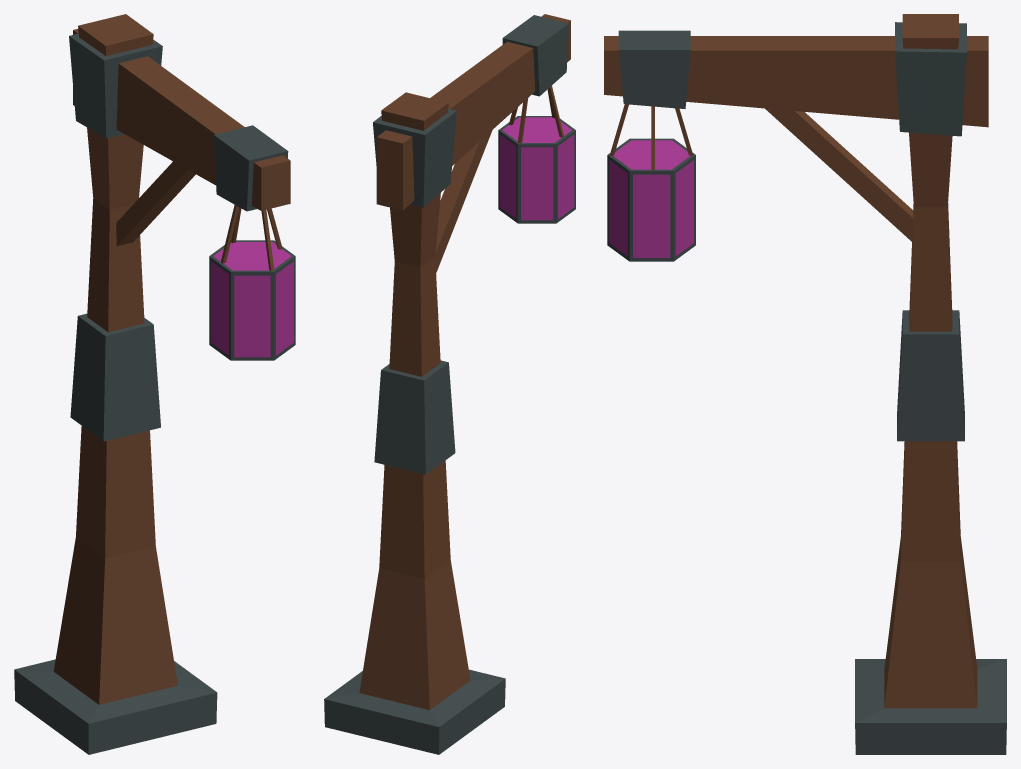
Rendered from Lamp_1_Purple.fbx.
3 views of the same model, side by side, from view 1: azimuth 30°, elevation 25°; view 2: azimuth 150°, elevation 25°; view 3: azimuth 270°, elevation 25° (orthographic). The views are drawn at different scales.
Visible parts, largest first — view 1: Lamp_1_Purple; view 2: Lamp_1_Purple; view 3: Lamp_1_Purple.
Boxes of the visible parts, x1,y1,x2,y2 form: Lamp_1_Purple: (14,14,295,754); Lamp_1_Purple: (324,14,575,754); Lamp_1_Purple: (604,14,1006,754).
Bounding box in the file's own units: 39.51 × 200 × 105.
